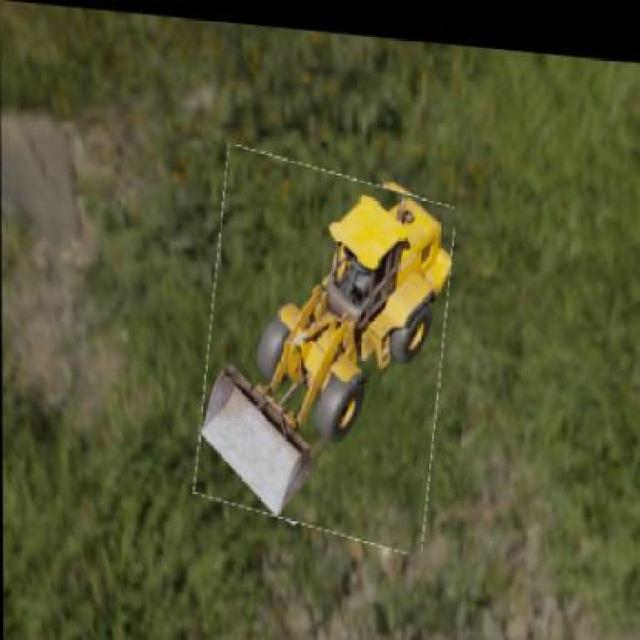buldozerpayloadergrader: (195, 183, 457, 520)
